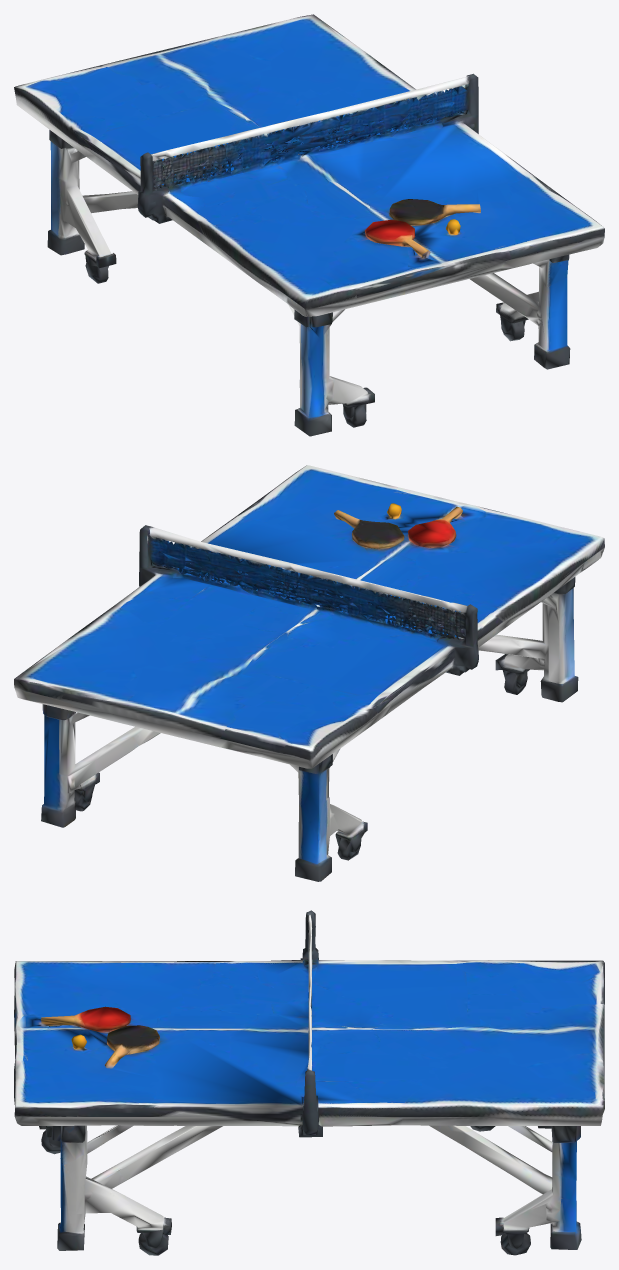
The model's file is pingpong.glb.
3 views of the same model, one above another, from view 1: azimuth 30°, elevation 25°; view 2: azimuth 150°, elevation 25°; view 3: azimuth 270°, elevation 25° (orthographic).
Parts seen in each view (by area): view 1: tripo_node_916a3628-c62a-4688-8e2d-f1ed5d4b3cd8; view 2: tripo_node_916a3628-c62a-4688-8e2d-f1ed5d4b3cd8; view 3: tripo_node_916a3628-c62a-4688-8e2d-f1ed5d4b3cd8.
Part boxes in pixels (<box>): tripo_node_916a3628-c62a-4688-8e2d-f1ed5d4b3cd8: <box>14,14,604,436</box>; tripo_node_916a3628-c62a-4688-8e2d-f1ed5d4b3cd8: <box>14,465,604,881</box>; tripo_node_916a3628-c62a-4688-8e2d-f1ed5d4b3cd8: <box>14,910,604,1255</box>.
Bounding box in the file's own units: 0.6623 × 0.3759 × 0.9998.
Materials: 1 (1 with a texture image).
